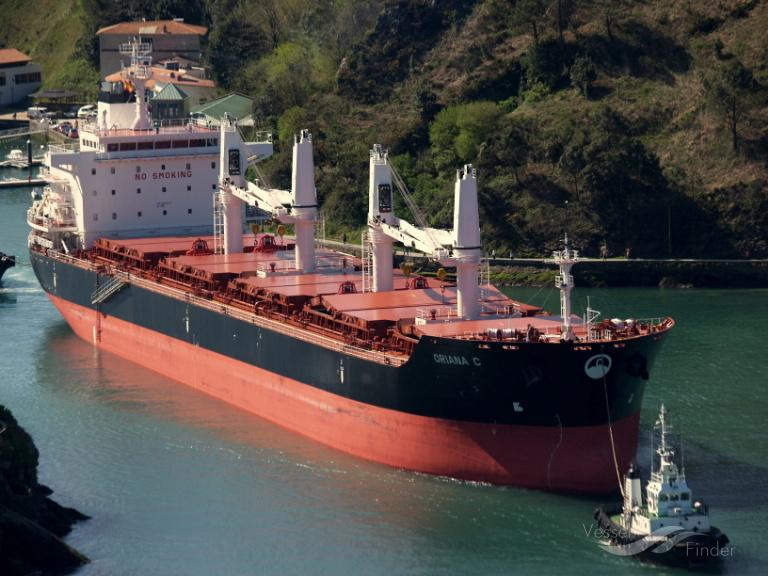OCR: (430, 342, 482, 372)
